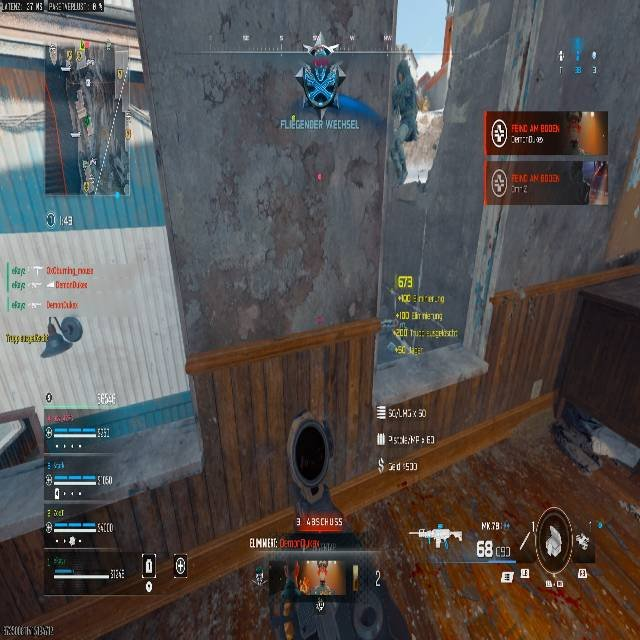head: (310, 44, 332, 56)
player: (294, 45, 347, 118)
